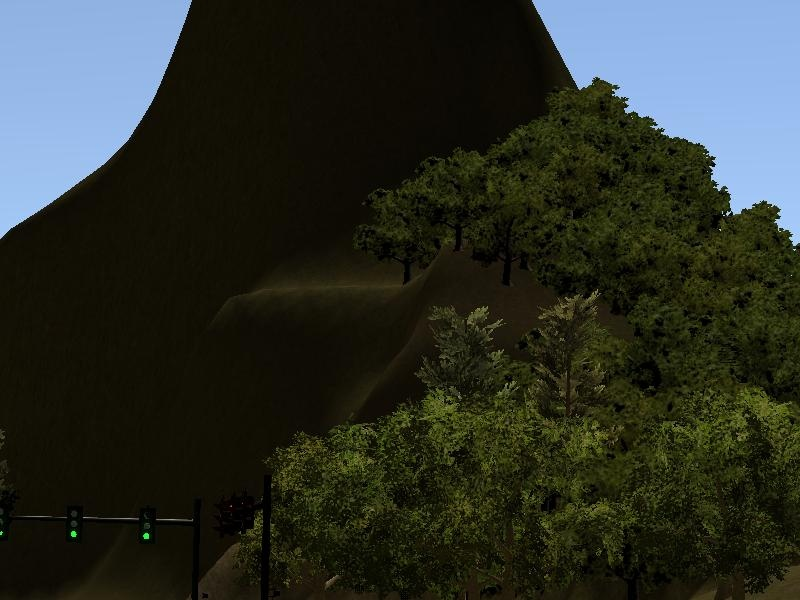GREEN: (64, 503, 85, 548), (134, 505, 157, 546)
